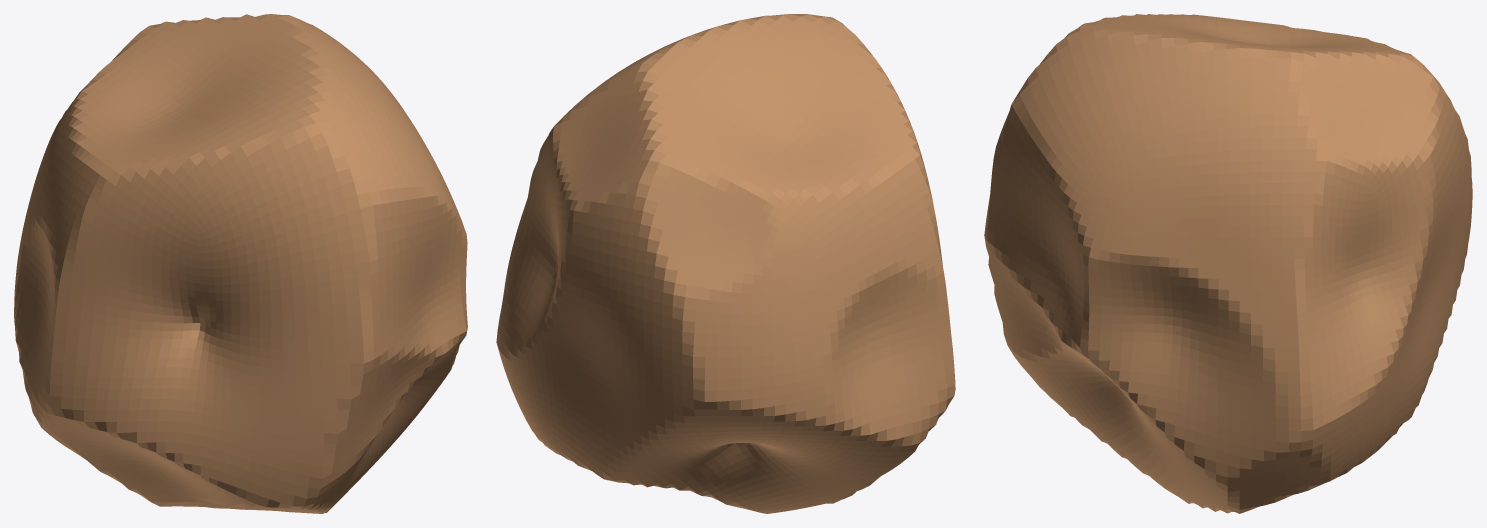
Rendered from Rock-Debris-New.glb.
3 renders of one model, left to right at view 1: azimuth 30°, elevation 25°; view 2: azimuth 150°, elevation 25°; view 3: azimuth 270°, elevation 25°, orthographic.
Visible parts, largest first — view 1: Cube; view 2: Cube; view 3: Cube.
Part boxes in pixels (left/top/right/bottom): Cube: left=14, top=14, right=467, bottom=513; Cube: left=496, top=14, right=955, bottom=513; Cube: left=984, top=14, right=1472, bottom=513.
Bounding box in the file's own units: 2.62 × 2.78 × 2.68.
